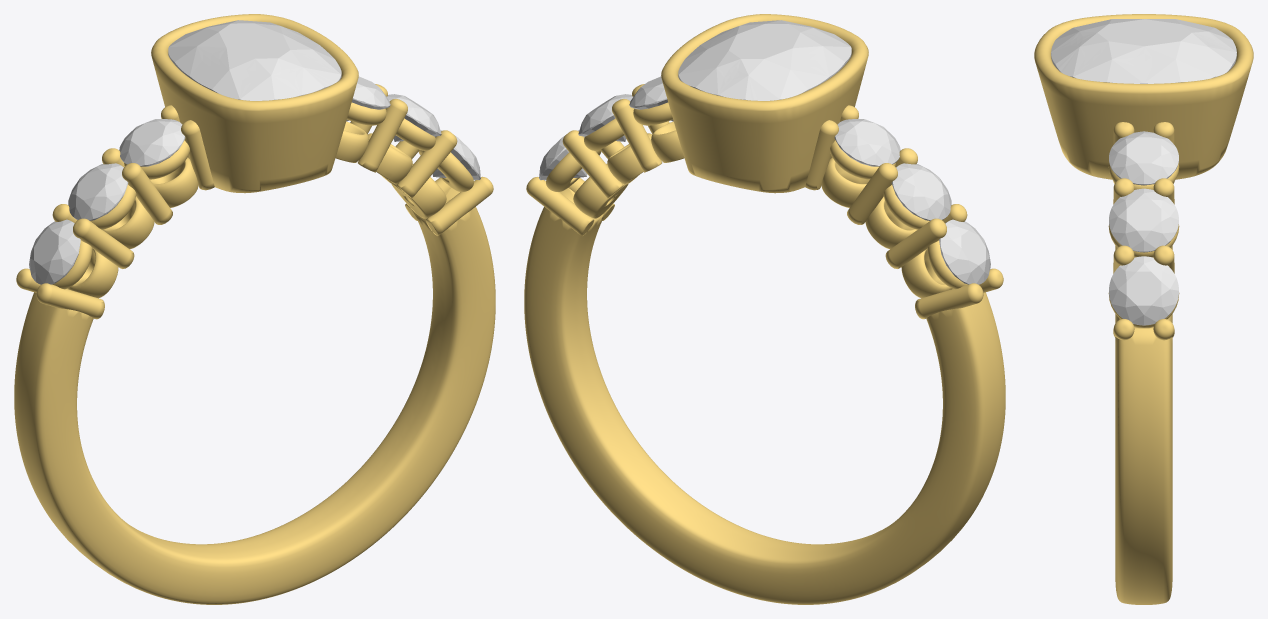
File: diamond-cushion-yellowgold-bezelset-straightband-7stone.glb
3 views of the same model, side by side, from view 1: azimuth 30°, elevation 25°; view 2: azimuth 150°, elevation 25°; view 3: azimuth 270°, elevation 25° (orthographic).
Visible parts, largest first — view 1: metal.002, stone, side.002, side.001, side.003, side.005, side.004, side.006; view 2: metal.002, stone, side.002, side.001, side.003, side.005, side.004, side.006; view 3: metal.002, stone, side.006, side.005, side.004.
Part boxes in pixels (x1,y1,x2,y2): metal.002: (14, 14, 495, 604); stone: (168, 20, 341, 100); side.002: (68, 163, 128, 220); side.001: (29, 219, 80, 284); side.003: (119, 119, 185, 166); side.005: (387, 94, 441, 141); side.004: (346, 76, 390, 121); side.006: (432, 130, 480, 180); metal.002: (524, 14, 1005, 604); stone: (678, 20, 851, 100); side.002: (891, 163, 951, 220); side.001: (939, 219, 990, 284); side.003: (834, 119, 900, 166); side.005: (578, 94, 632, 141); side.004: (629, 76, 673, 121); side.006: (539, 130, 587, 180); metal.002: (1034, 14, 1253, 604); stone: (1051, 19, 1236, 83); side.006: (1109, 256, 1178, 325); side.005: (1109, 188, 1178, 252); side.004: (1109, 131, 1178, 185).
Size of the model in its own units: 20.43 by 23.24 by 8.45.
